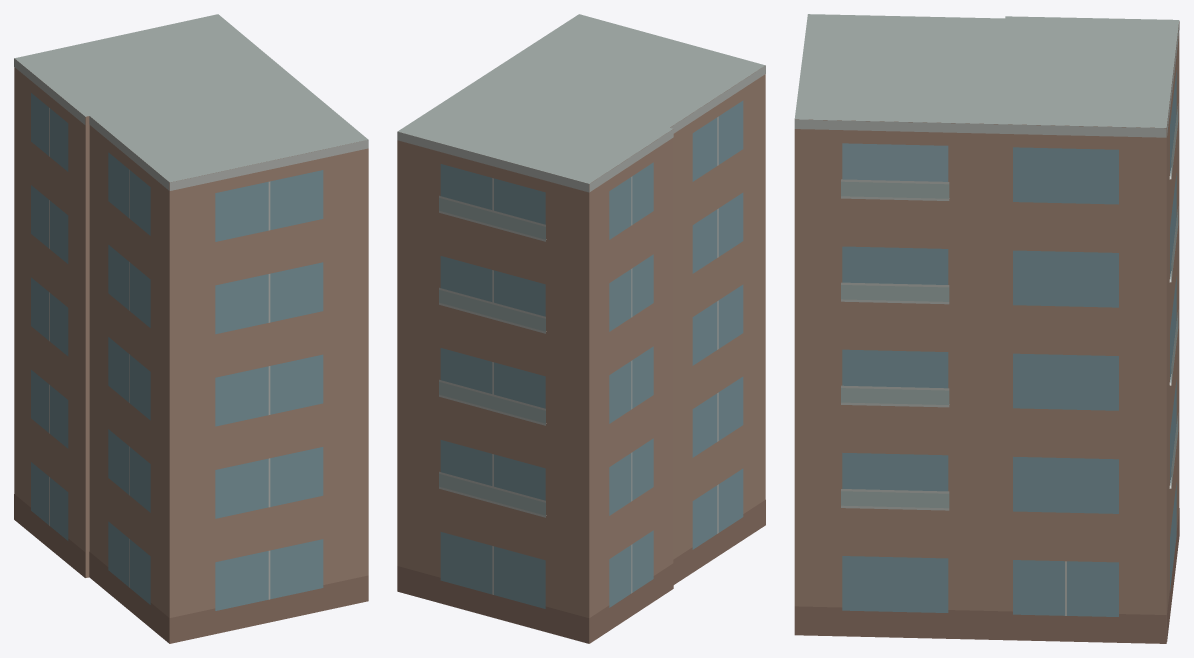
The model's file is survey-upis-32993764.glb.
3 renders of one model, left to right at view 1: azimuth 30°, elevation 25°; view 2: azimuth 150°, elevation 25°; view 3: azimuth 270°, elevation 25°, orthographic. The views are drawn at different scales.
Visible parts, largest first — view 1: survey-upis-32993764.tmp; view 2: survey-upis-32993764.tmp; view 3: survey-upis-32993764.tmp.
Boxes of the visible parts, box(x1,y1,x2,y2) form: survey-upis-32993764.tmp: box(14, 14, 368, 643); survey-upis-32993764.tmp: box(397, 14, 765, 643); survey-upis-32993764.tmp: box(794, 14, 1179, 643).
Size of the model in its own units: 6.17 by 13 by 8.8.
